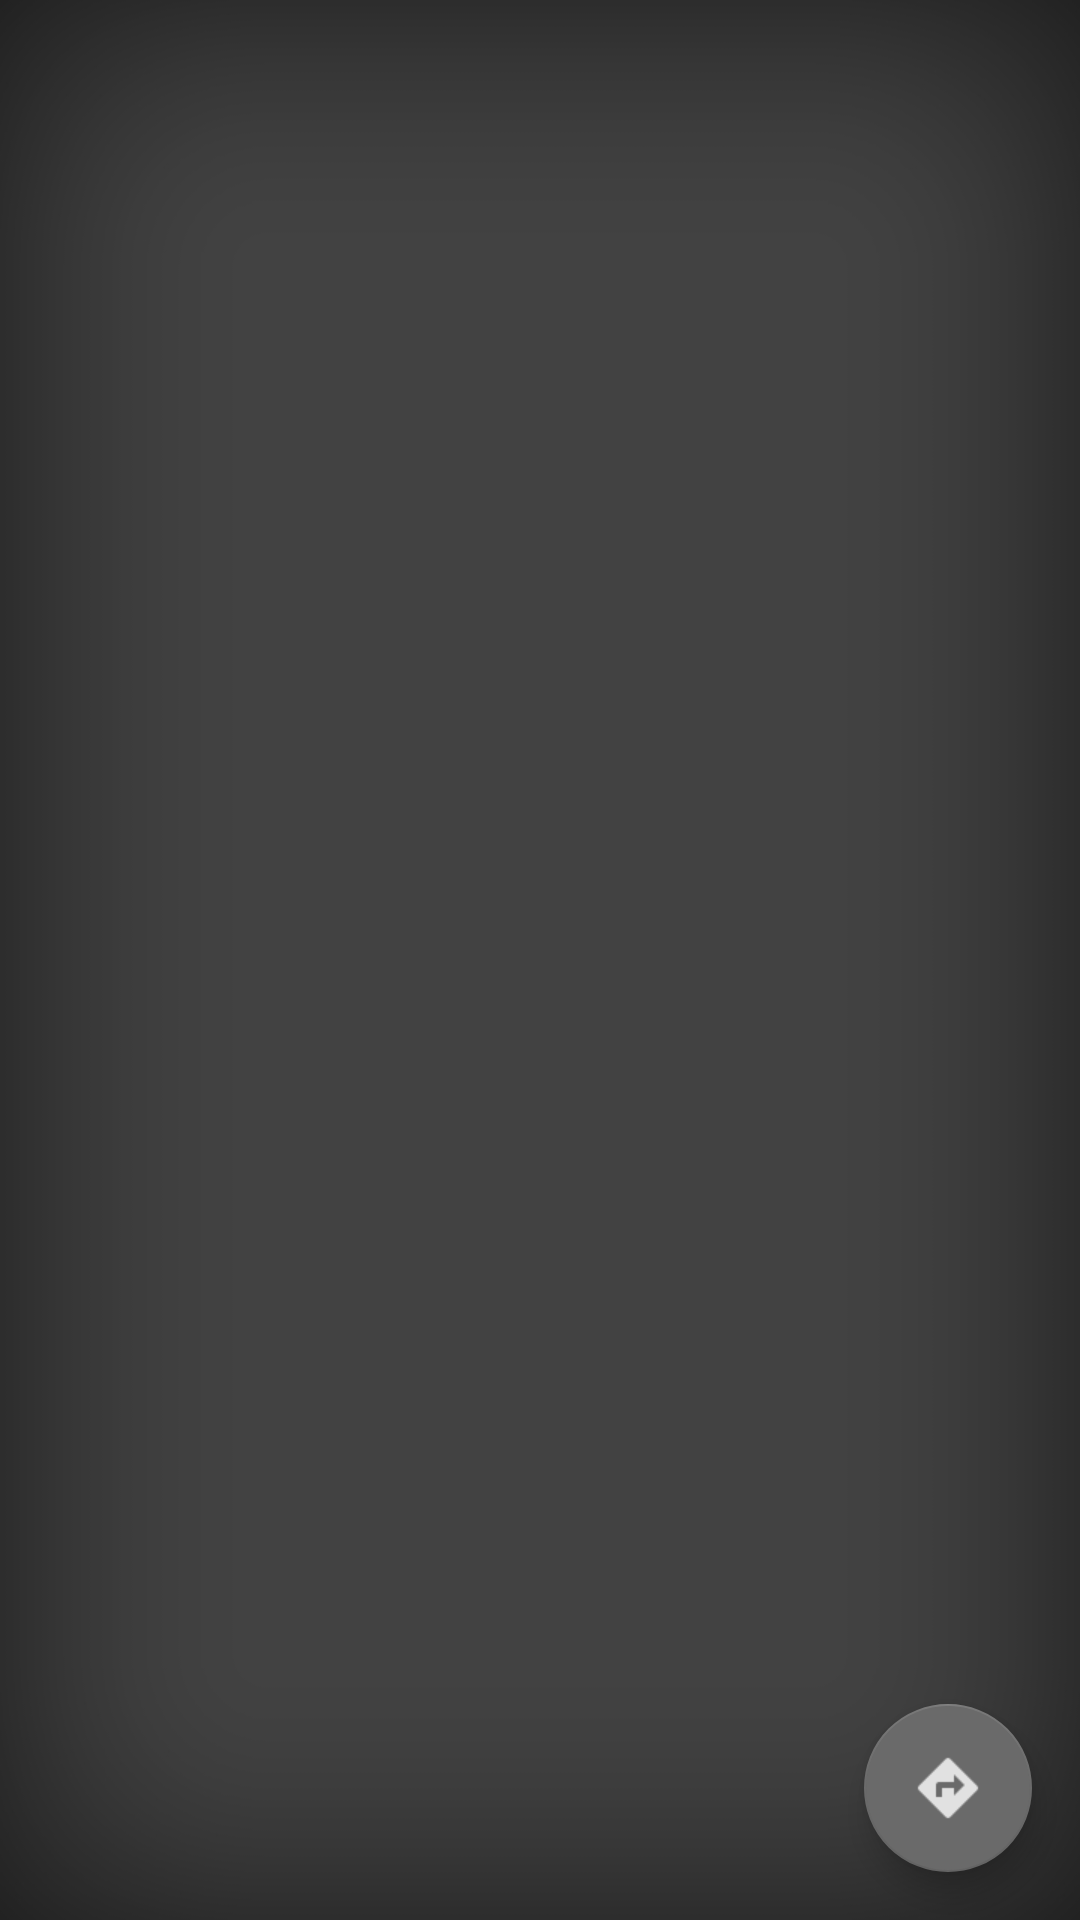

Point at icon controls on the screen. Image size 1080 × 1920, points as (x,y).
directions: (948,1788)
